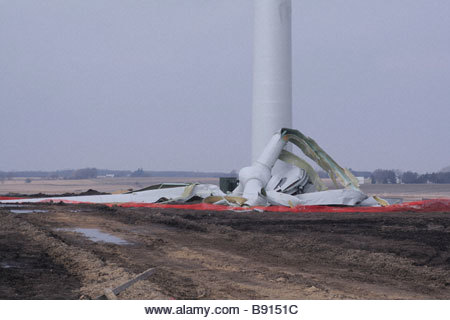faulty: (169, 120, 375, 206)
